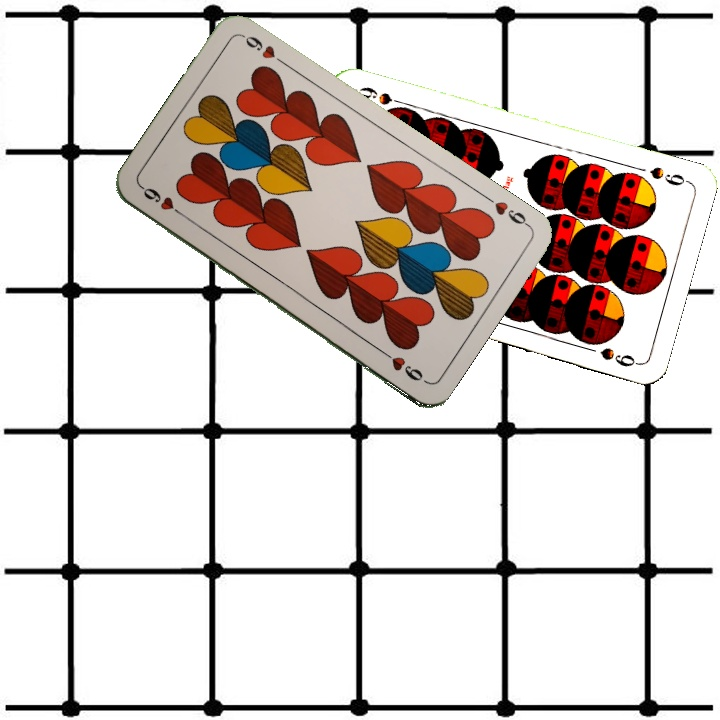H9: (137, 182, 190, 221), (480, 191, 532, 230)
S9: (645, 162, 692, 189)
